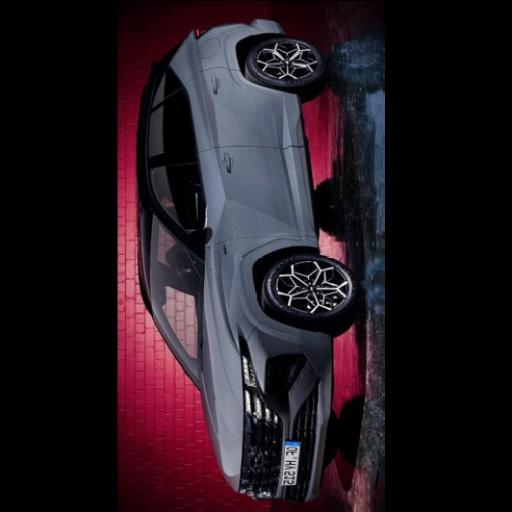suv: (137, 19, 357, 498)
